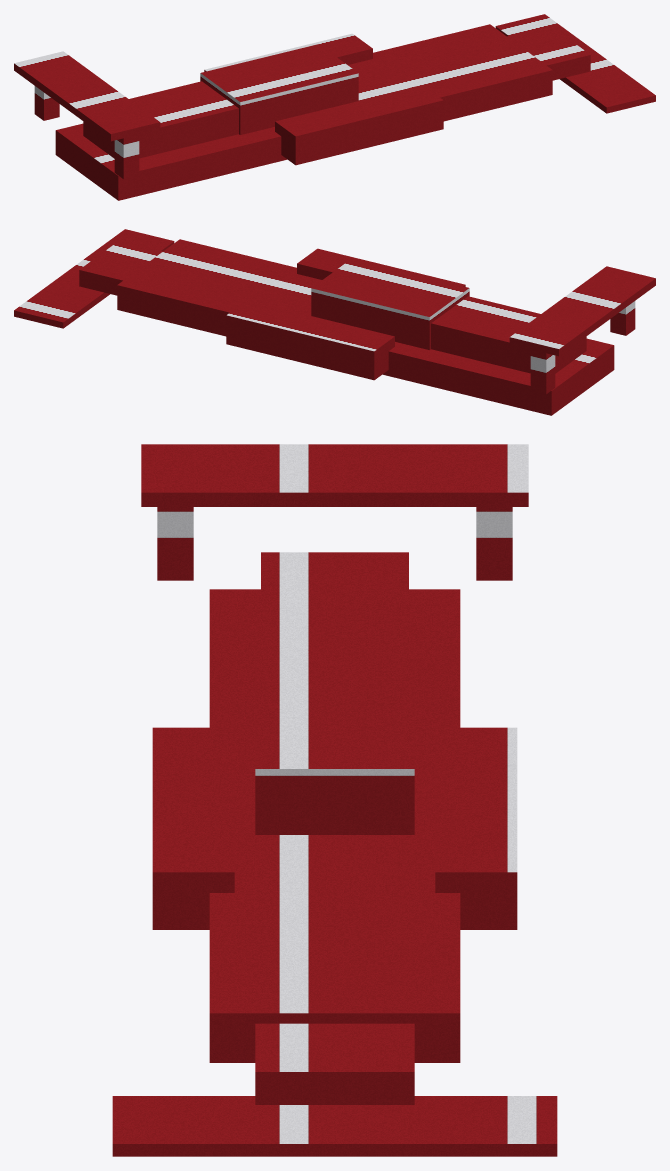
Rendered from car_body.obj.
3 renders of one model, top to bottom at view 1: azimuth 30°, elevation 25°; view 2: azimuth 150°, elevation 25°; view 3: azimuth 270°, elevation 25°, orthographic. The views are drawn at different scales.
Visible parts, largest first — view 1: car_body; view 2: car_body; view 3: car_body.
Boxes of the visible parts, x1,y1,x2,y2 form: car_body: (14,14,655,200); car_body: (14,229,655,415); car_body: (112,444,557,1156).
Bounding box in the file's own units: 5.45 × 0.905 × 1.95.
Materials: 1 (1 with a texture image).
